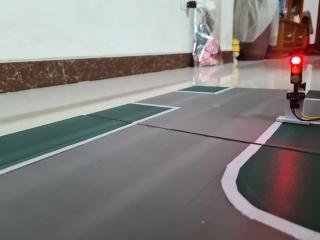red: (286, 50, 307, 99)
